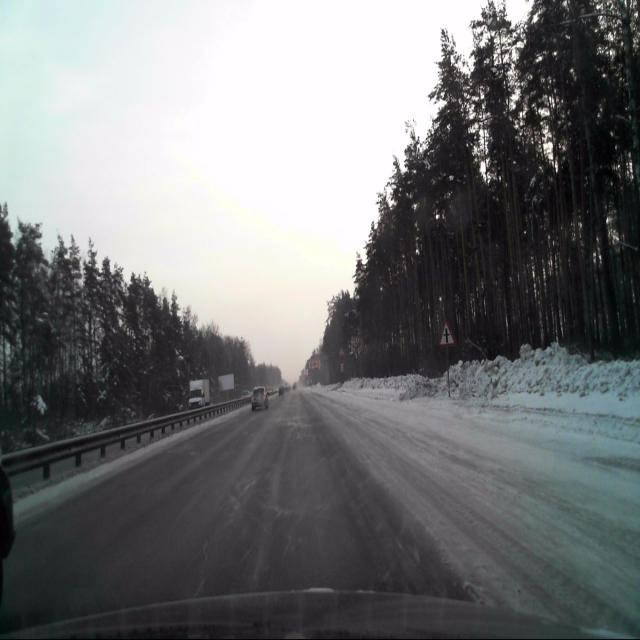road sign: (438, 320, 456, 348)
